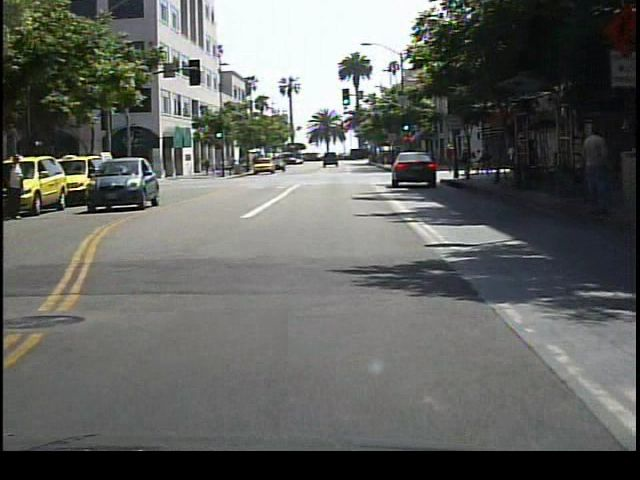person: (578, 122, 613, 224), (8, 149, 35, 226)
